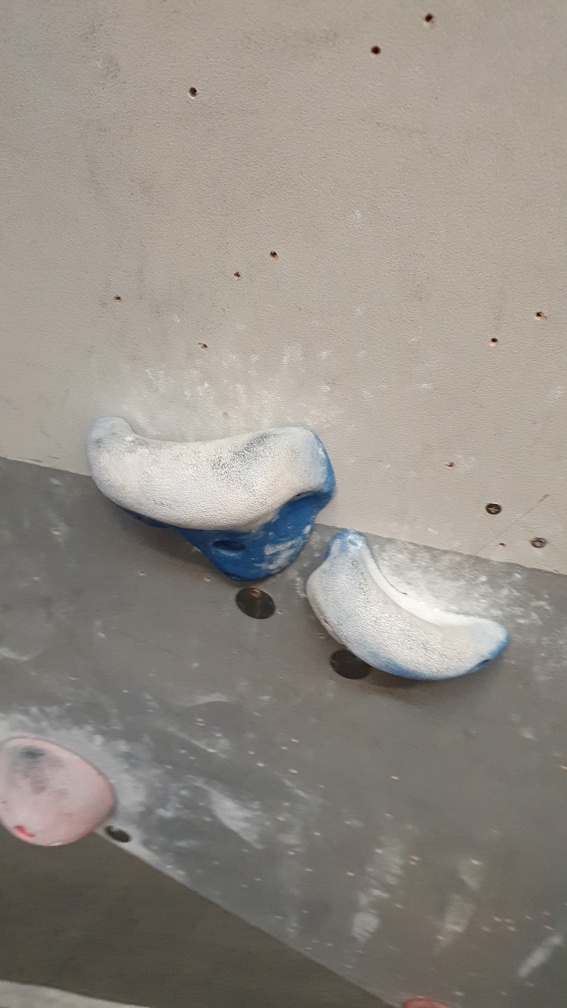Hand Start: (316, 646, 374, 685), (234, 586, 278, 620), (100, 815, 134, 844)
Jug: (83, 400, 330, 592), (302, 527, 512, 686)
Sloper: (1, 724, 130, 861)
